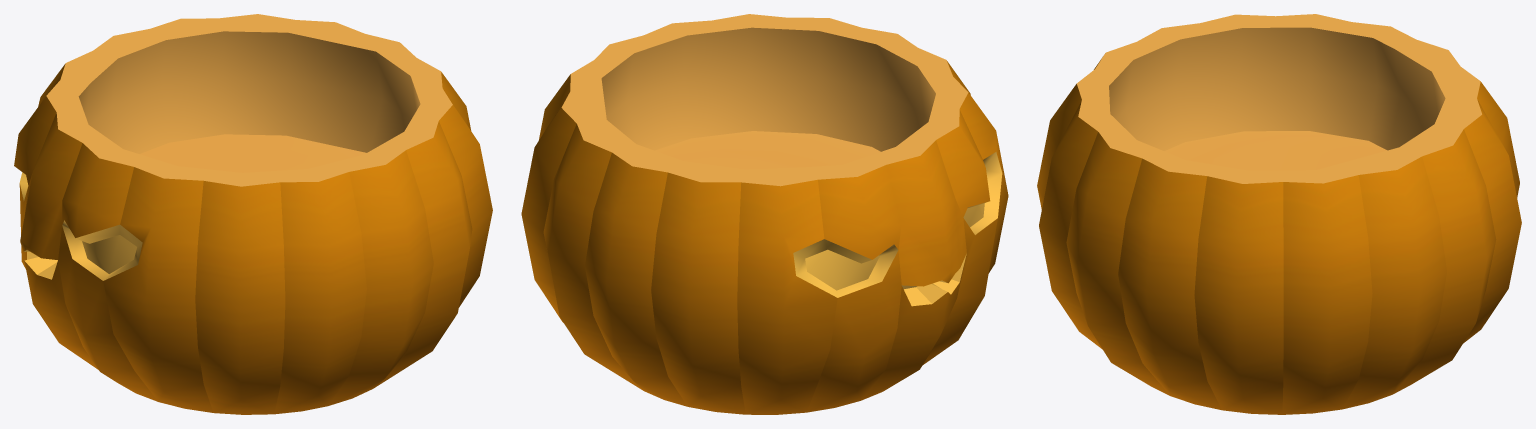
File: Pumpkin_5.glb
The picture shows the model from 3 angles, left to right: view 1: azimuth 30°, elevation 25°; view 2: azimuth 150°, elevation 25°; view 3: azimuth 270°, elevation 25°; orthographic projection.
Parts seen in each view (by area): view 1: Pumpkin_5; view 2: Pumpkin_5; view 3: Pumpkin_5.
Boxes of the visible parts, x1=… form: Pumpkin_5: x1=14, y1=14, x2=492, y2=414; Pumpkin_5: x1=521, y1=14, x2=1008, y2=414; Pumpkin_5: x1=1037, y1=14, x2=1521, y2=414.
Size of the model in its own units: 0.3345 by 0.2019 by 0.3366.
Materials: 1 (1 with a texture image).
